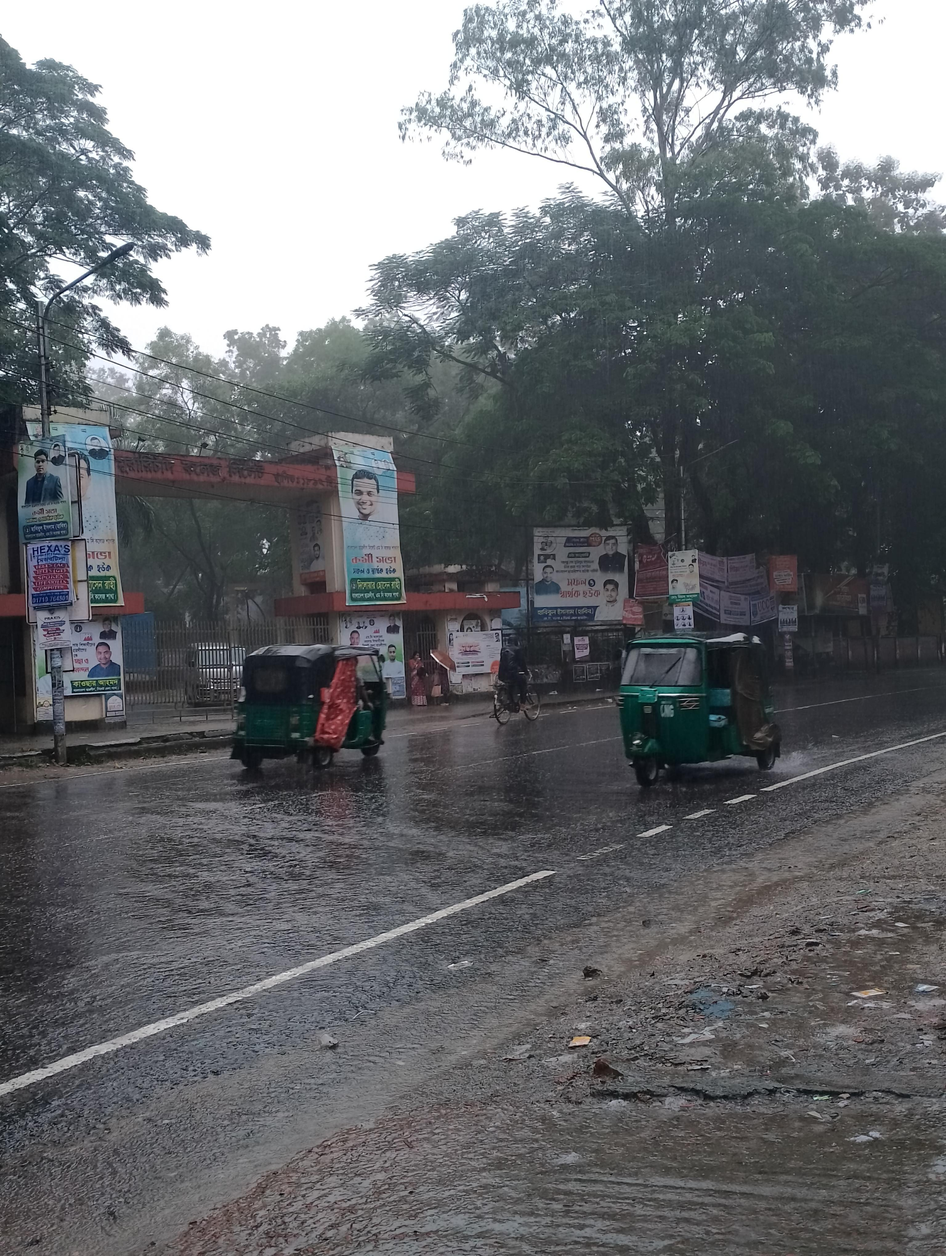Car: (167, 624, 259, 722)
